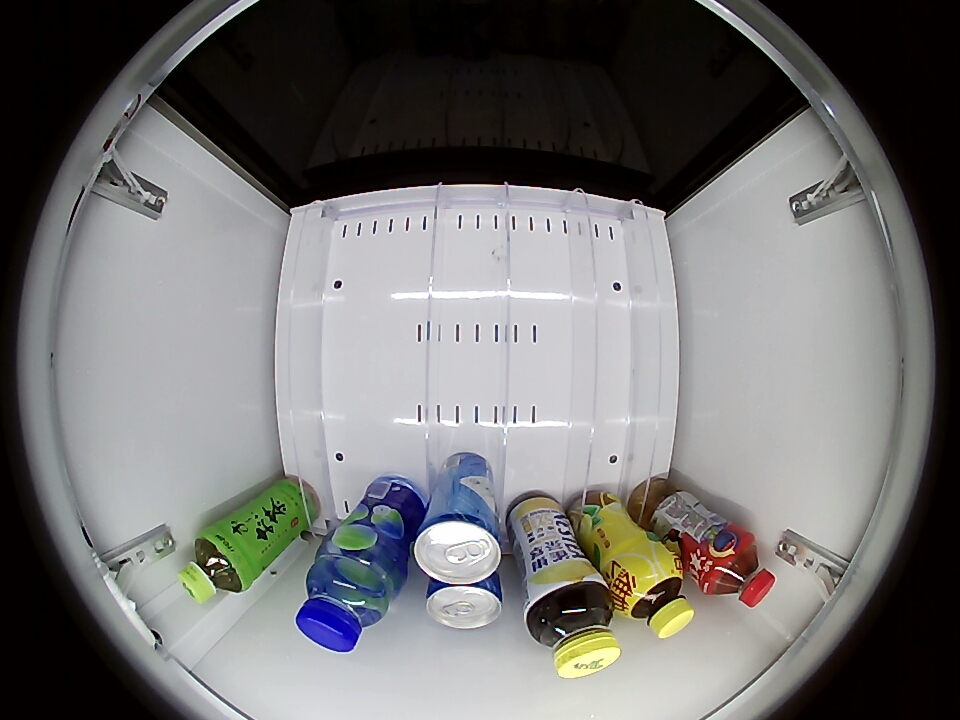binghongcha: (707, 534, 780, 608)
chacui: (525, 578, 620, 679)
maidong: (296, 539, 398, 653)
qingdaowangzi-2: (412, 502, 504, 586), (424, 575, 504, 629)
weitaningmeng-bottle: (614, 554, 694, 639)
yitengyuan: (178, 528, 251, 603)
